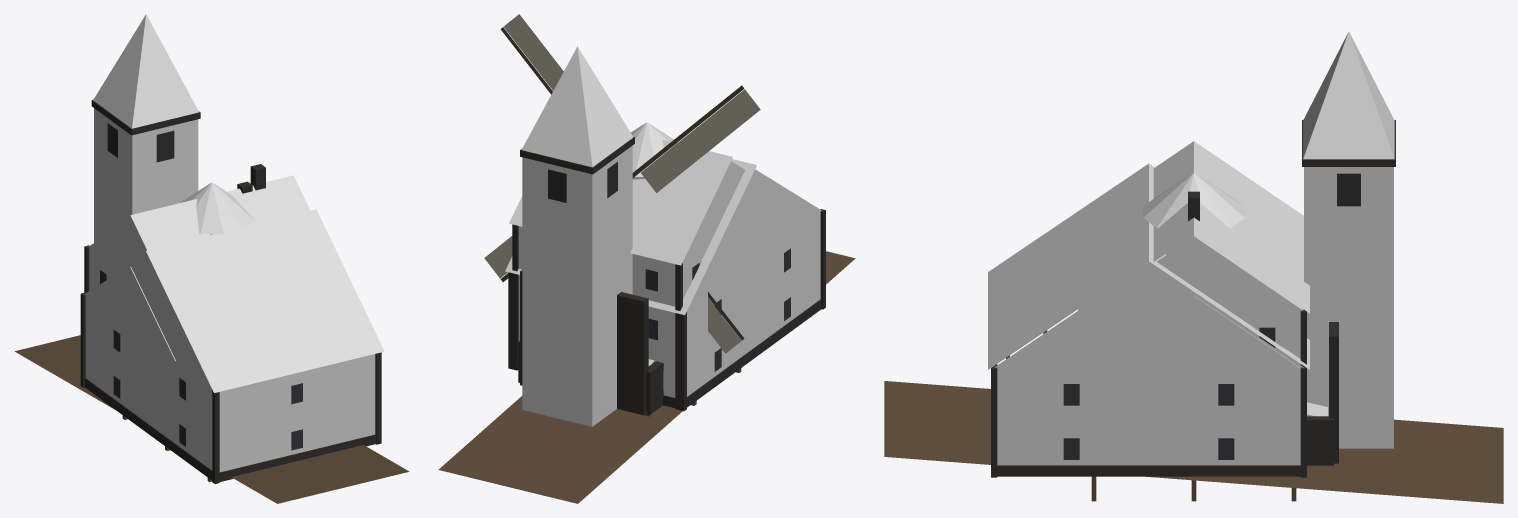
Rendered from volcanic.glb.
The picture shows the model from 3 angles, left to right: view 1: azimuth 30°, elevation 25°; view 2: azimuth 150°, elevation 25°; view 3: azimuth 270°, elevation 25°; orthographic projection. The views are drawn at different scales.
Visible parts, largest first — view 1: church, merchants-house, shipyard-slip, windmill; view 2: church, merchants-house, shipyard-slip, windmill, chapel-ruin; view 3: church, shipyard-slip, merchants-house, windmill, chapel-ruin.
Part boxes in pixels (left/top/right/bottom): church: left=80, top=14, right=384, bottom=483; merchants-house: left=84, top=164, right=310, bottom=293; shipyard-slip: left=14, top=335, right=409, bottom=503; windmill: left=180, top=182, right=255, bottom=234; church: left=505, top=46, right=825, bottom=426; merchants-house: left=509, top=132, right=744, bottom=409; shipyard-slip: left=438, top=251, right=855, bottom=503; windmill: left=484, top=14, right=760, bottom=353; chapel-ruin: left=518, top=270, right=663, bottom=415; church: left=988, top=31, right=1395, bottom=477; shipyard-slip: left=884, top=330, right=1503, bottom=503; merchants-house: left=1078, top=141, right=1327, bottom=416; windmill: left=1143, top=173, right=1244, bottom=228; chapel-ruin: left=1307, top=322, right=1338, bottom=465.
Size of the model in its own units: 17.82 by 24.5 by 31.
